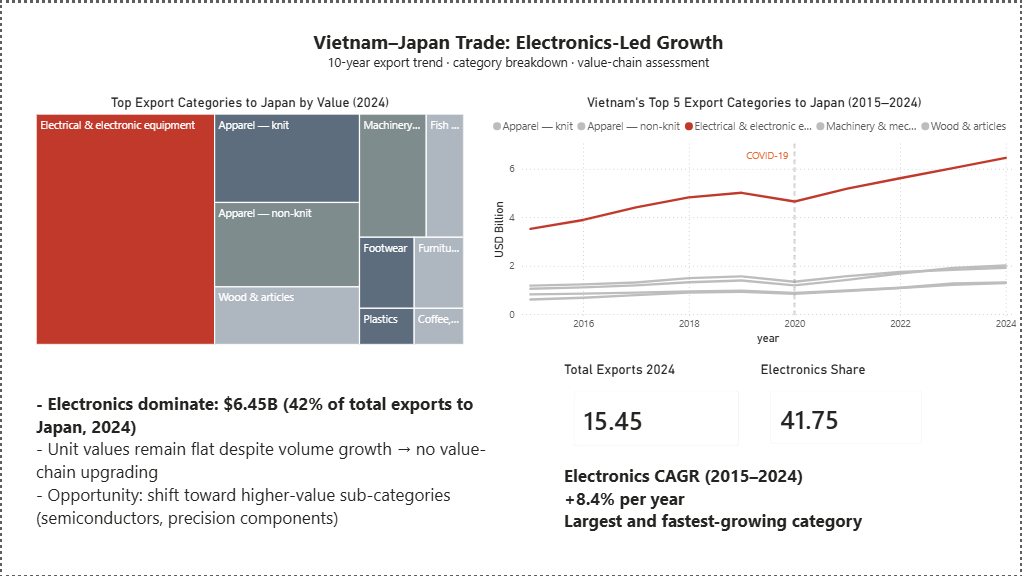

The page's visual inventory and layout, read from the dashboard file:
{"tool":"powerbi","page":{"name":"Japan","canvas":[1280,720],"ordinal":1},"visuals":[{"type":"treemap","title":"Top Export Categories to Japan by Value (2024)","fields":{"Group":["clean_combined.hs2_description"],"Values":["Sum(clean_combined.trade_value_billion)"]},"box":[37.3,115,547.4,319.1],"z":0},{"type":"lineChart","title":"Vietnam''s Top 5 Export Categories to Japan (2015–2024)","fields":{"Category":["clean_combined.year"],"Y":["Sum(clean_combined.trade_value_billion)"],"Series":["clean_combined.hs2_description"]},"box":[610.6,115,668.9,319.1],"z":1000},{"type":"textbox","box":[37.3,482.6,621.9,212.2],"z":2000},{"type":"cardVisual","title":"Total Exports 2024","fields":{"Data":["Sum(clean_combined.trade_value_billion)"]},"box":[701.4,450.4,242.7,123.4],"z":3000},{"type":"cardVisual","title":"Electronics Share","fields":{"Data":["Sum(clean_combined.share_of_total_pct)"]},"box":[949.6,451.7,225.9,120.9],"z":4000},{"type":"textbox","box":[348.2,25.9,600.9,71.3],"z":5000},{"type":"textbox","box":[701.5,574.2,450.1,119.3],"z":6000}]}

Visuals, with their boxes in screenshot pixels (x1, y1, x2, y2), scaled from the page's 1280x720 canvas onto the 1022x576 screenshot:
"Top Export Categories to Japan by Value (2024)" treemap: 30:92:467:347
"Vietnam''s Top 5 Export Categories to Japan (2015–2024)" lineChart: 488:92:1021:347
textbox: 30:386:526:556
"Total Exports 2024" cardVisual: 560:360:754:459
"Electronics Share" cardVisual: 758:361:939:458
textbox: 278:21:758:78
textbox: 560:459:919:555
